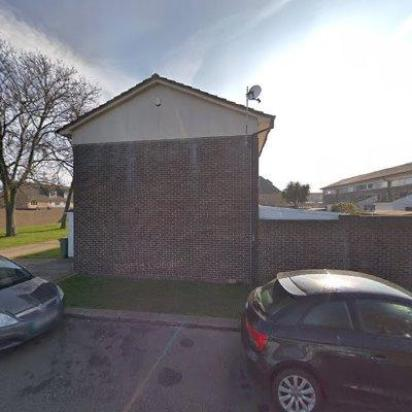stationary-car-onstreet: (238, 268, 412, 412), (0, 253, 68, 359)
